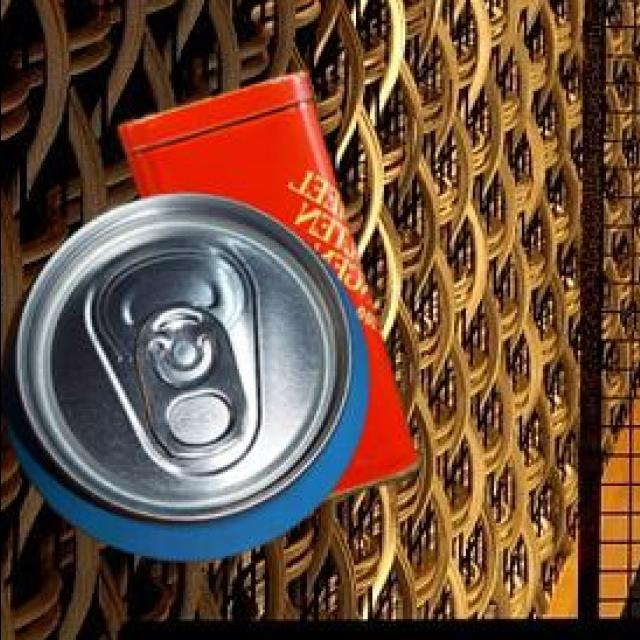logam: (0, 190, 366, 557), (114, 70, 417, 498)
